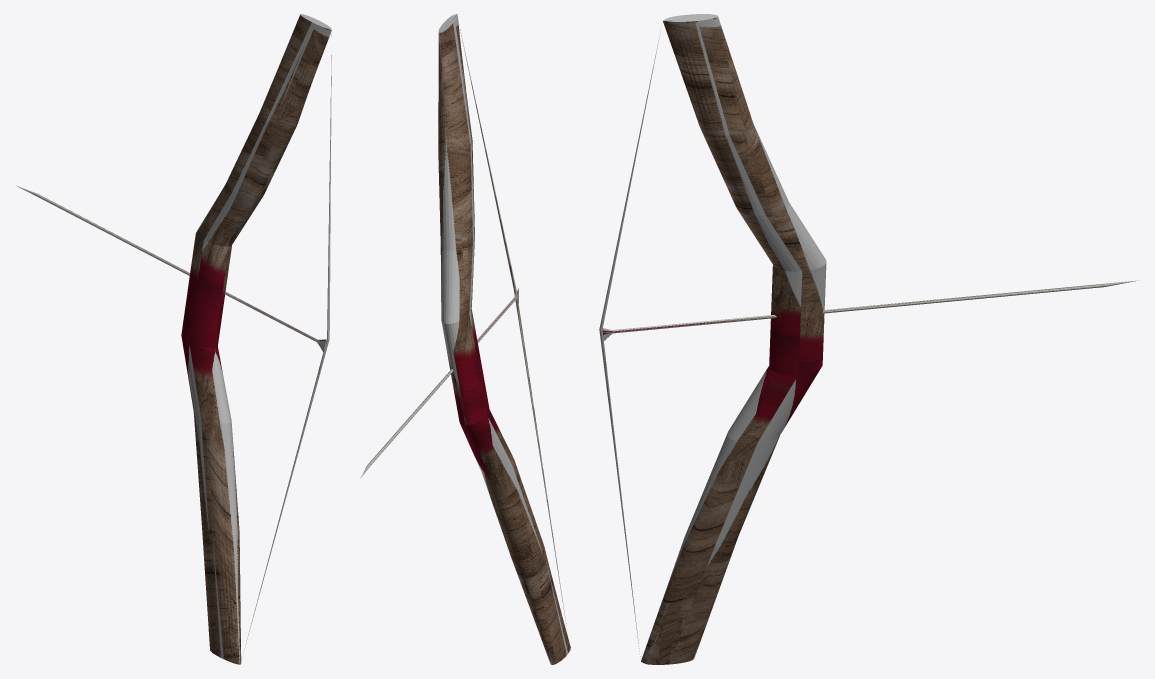
Rendered from Arco16.obj.
The picture shows the model from 3 angles, left to right: view 1: azimuth 30°, elevation 25°; view 2: azimuth 150°, elevation 25°; view 3: azimuth 270°, elevation 25°; orthographic projection. The views are drawn at different scales.
Parts seen in each view (by area): view 1: Cilindro; view 2: Cilindro; view 3: Cilindro.
Part boxes in pixels (x1,y1,x2,y2): Cilindro: (16, 14, 331, 664); Cilindro: (360, 14, 570, 664); Cilindro: (599, 14, 1139, 664).
Bounding box in the file's own units: 0.1901 × 0.9705 × 0.6792.
Materials: 1 (1 with a texture image).
